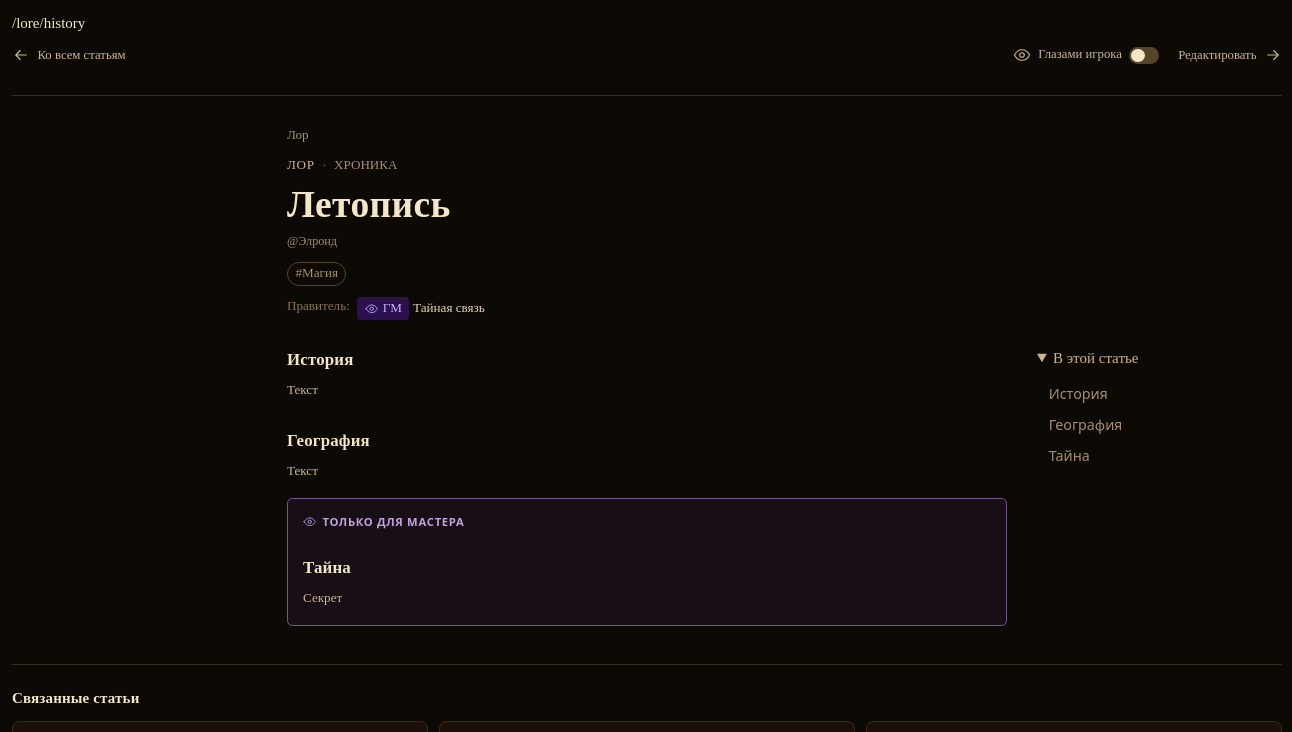
Test: Lore navigation and filters › removes secret headings from the table of contents in player view
This screenshot has width=1292, height=732.
Expected: the link "Тайна" is shown, top-left (1049, 446), bottom-right (1090, 465)
What coordinates should you click on to do the following:
click the switch labelled "Глазами игрока"
I would click on:
 (1086, 55)
Its box is top-left (1013, 34), bottom-right (1160, 76).
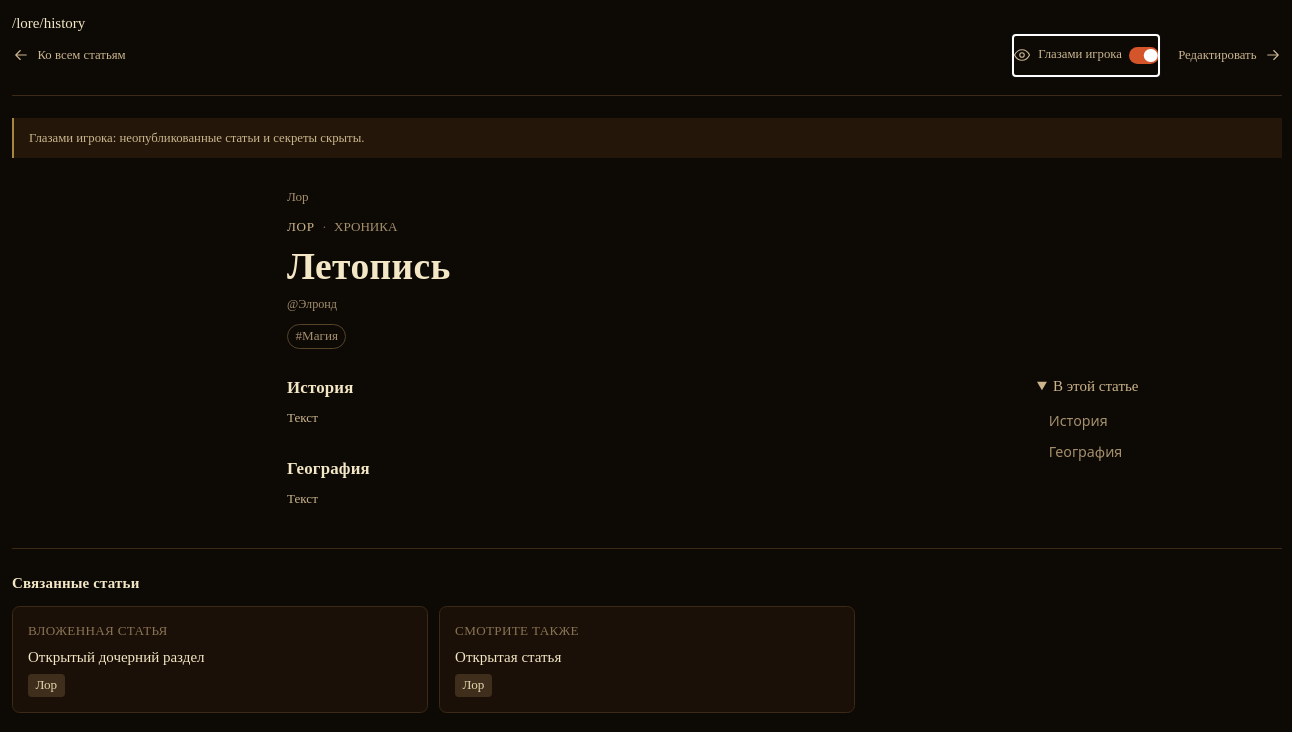
Expected: the link "Тайна" is gone
Expected: the link "Тайная связь" is gone
Expected: the link "Вложенная статья Открытый дочерний раздел Лор" is shown, top-left (12, 606), bottom-right (428, 713)
